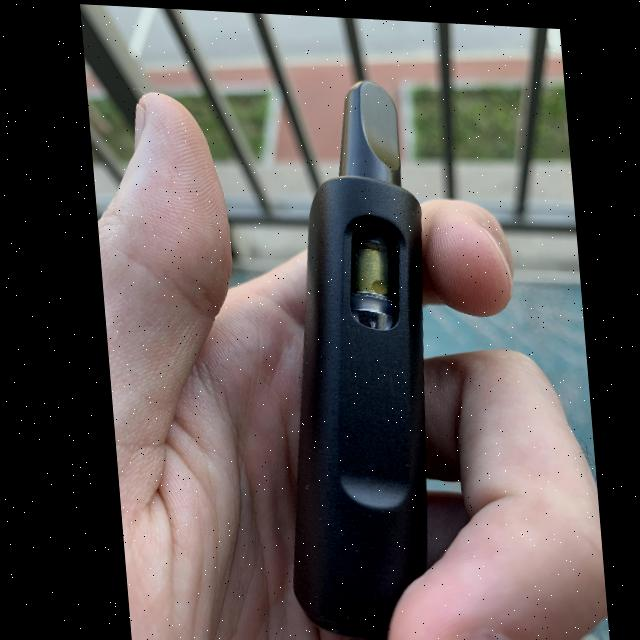vape: (249, 70, 445, 640)
